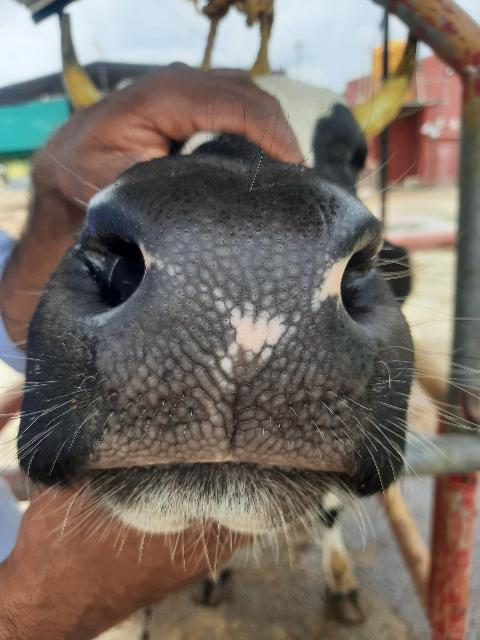Muzzle: (120, 192, 354, 472)
